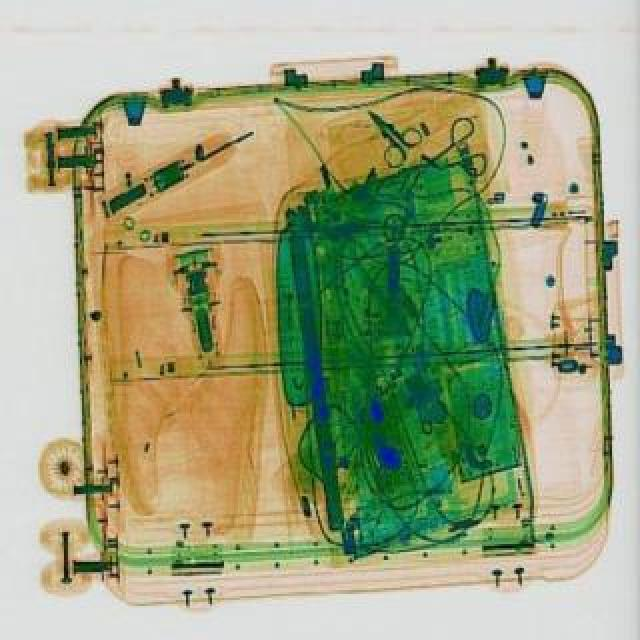pliers: (352, 100, 432, 176)
